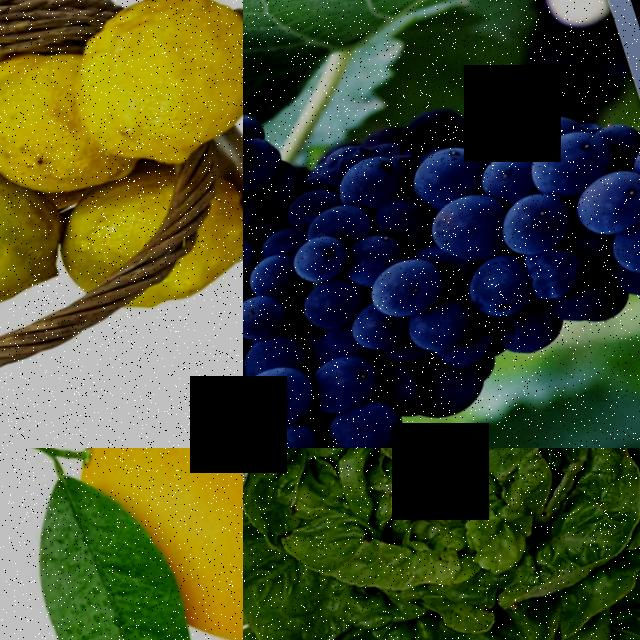grapes: (243, 0, 640, 448)
lemon: (46, 0, 243, 190), (0, 33, 150, 221), (0, 127, 63, 349)
lettuce: (243, 448, 640, 640)
